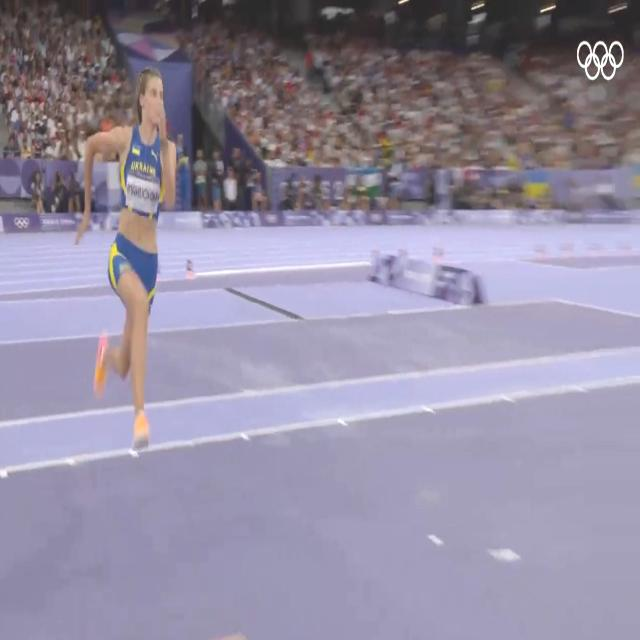run: (75, 72, 173, 461)
